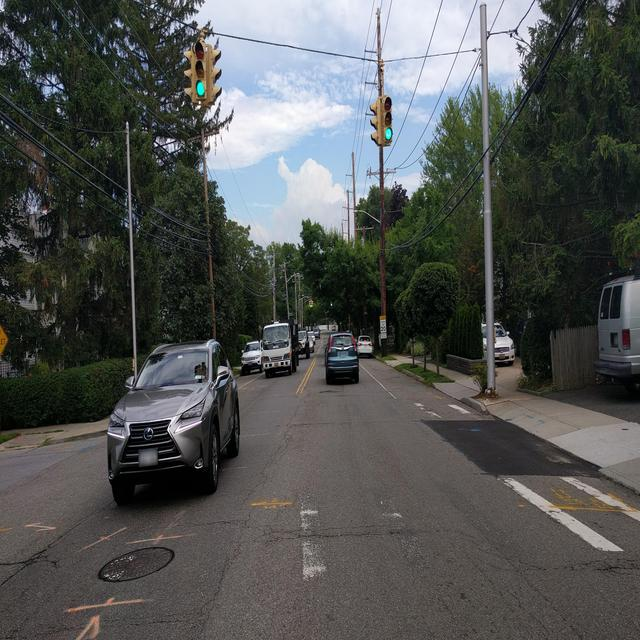Car: (107, 337, 240, 506), (593, 266, 639, 401), (298, 328, 372, 384), (482, 319, 528, 365), (240, 339, 263, 375)
Manhole: (98, 547, 174, 581)
Vegetation: (489, 0, 639, 391), (384, 81, 486, 395), (287, 277, 298, 322)
